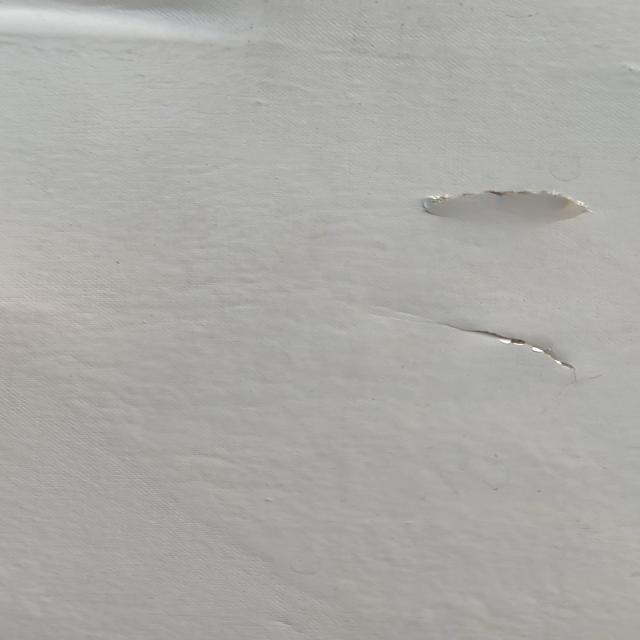Scratches: (375, 169, 618, 239), (424, 304, 600, 391)
